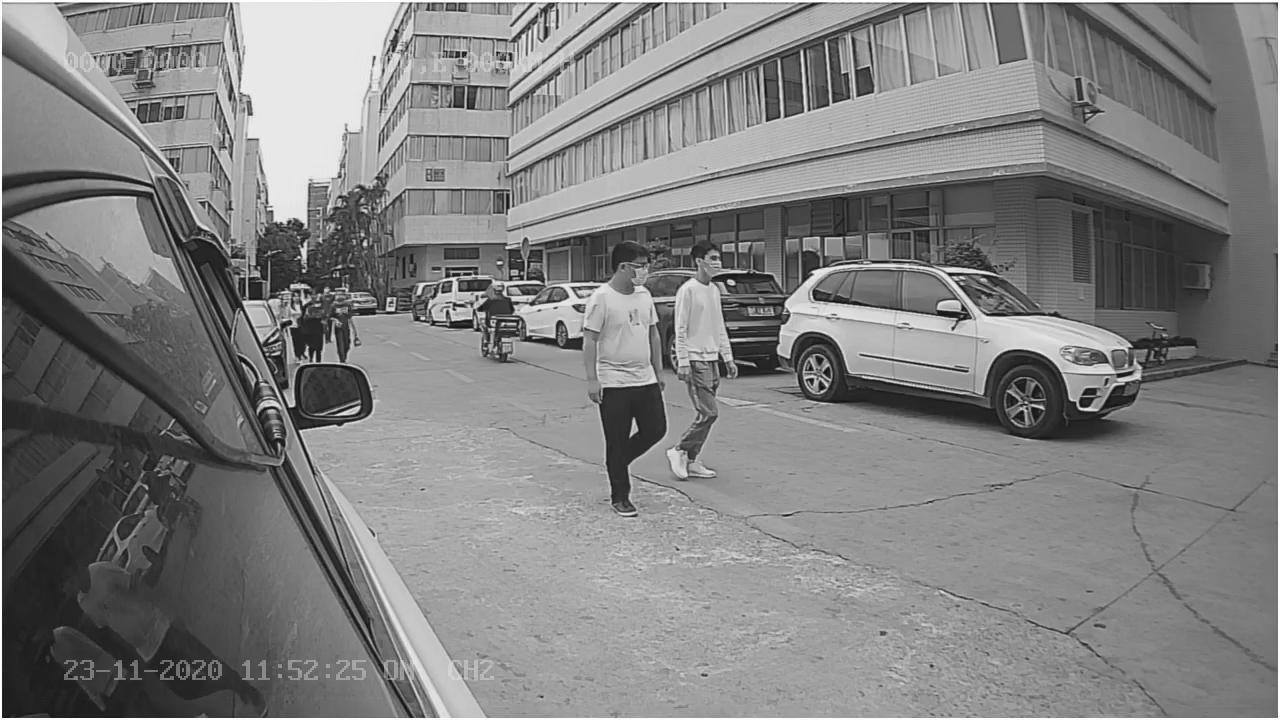person: (582, 235, 665, 511), (665, 234, 741, 476)
